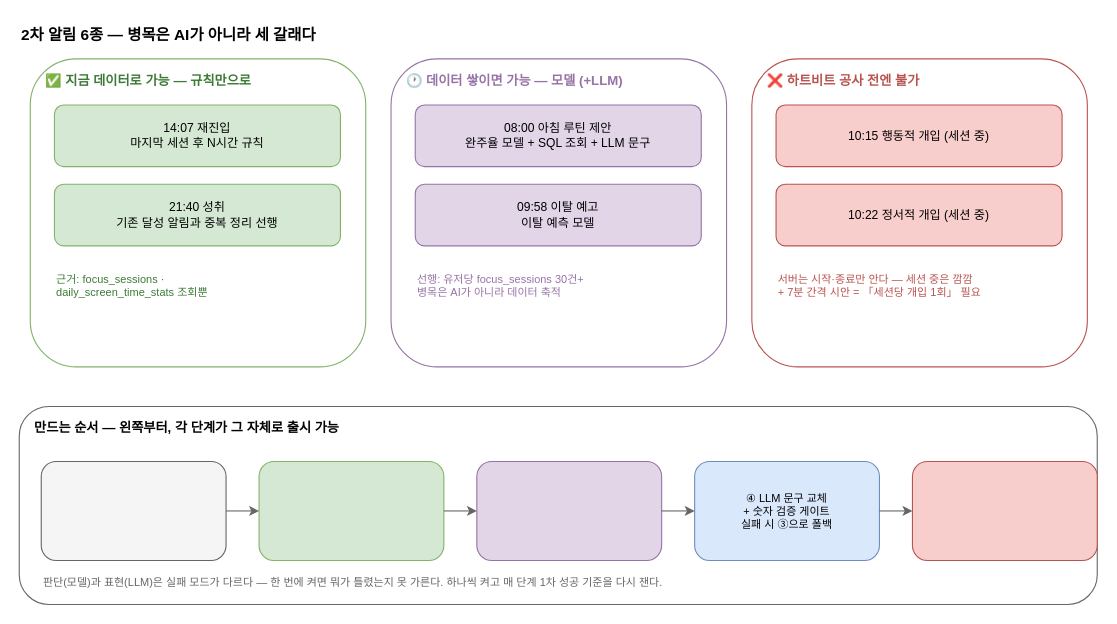
The diagram is 1117 pixels wide and 624 high, and some of its shapes have lost their labels. Here are the shapes that lost their labels. From the top down, the centre of each, then its label:
At pixel 133 510: "① 데이터 분포 조사 유저당 세션 수·유효일 실측".
At pixel 351 510: "② 규칙 2종 출시 재진입 · 성취 (AI 없음)".
At pixel 569 510: "③ 첫 모델: 완주율 예측 특징 집계 → 학습 → 평가 아침 루틴은 템플릿 문구로".
At pixel 1004 510: "⑤ 하트비트 공사 후 세션 중 개입 (별도 인프라 트랙)".
